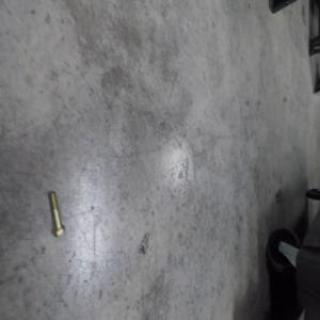Bolttrack_idkeyframe: (47, 188, 65, 237)
